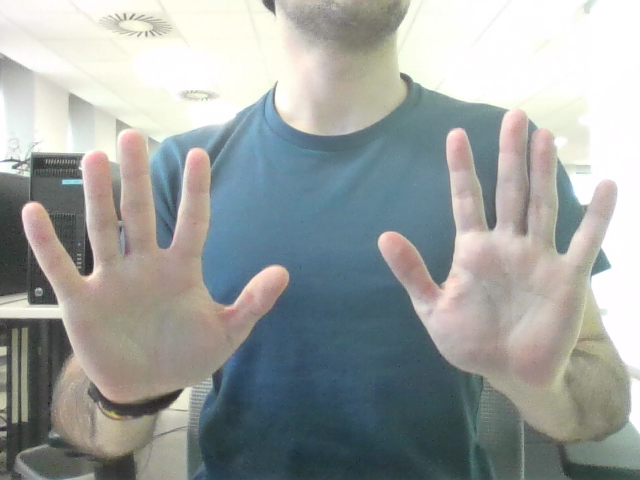Manos Arriba: (62, 135, 577, 352)
